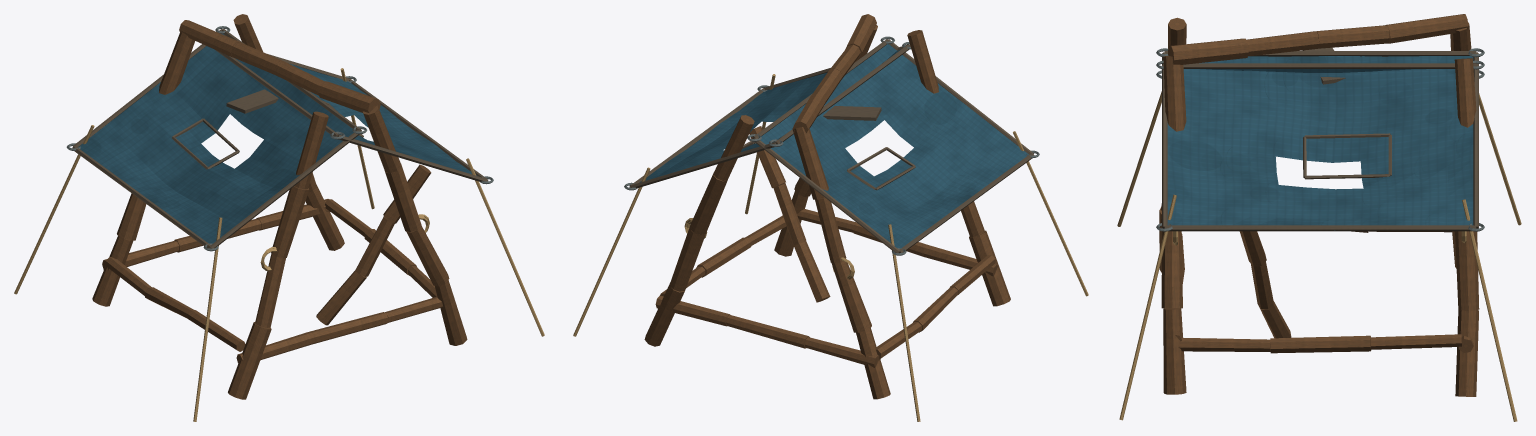
Rendered from cs-004_shelter_damaged.obj.
3 views of the same model, side by side, from view 1: azimuth 30°, elevation 25°; view 2: azimuth 150°, elevation 25°; view 3: azimuth 270°, elevation 25° (orthographic). The views are drawn at different scales.
Visible parts, largest first — view 1: cs-004_shelter_damaged; view 2: cs-004_shelter_damaged; view 3: cs-004_shelter_damaged.
Boxes of the visible parts, left/top/right/bottom form: cs-004_shelter_damaged: left=14, top=14, right=544, bottom=421; cs-004_shelter_damaged: left=573, top=14, right=1088, bottom=421; cs-004_shelter_damaged: left=1117, top=14, right=1521, bottom=421.
Bounding box in the file's own units: 2.26 × 1.61 × 1.95.
Materials: 5 (5 with a texture image).
